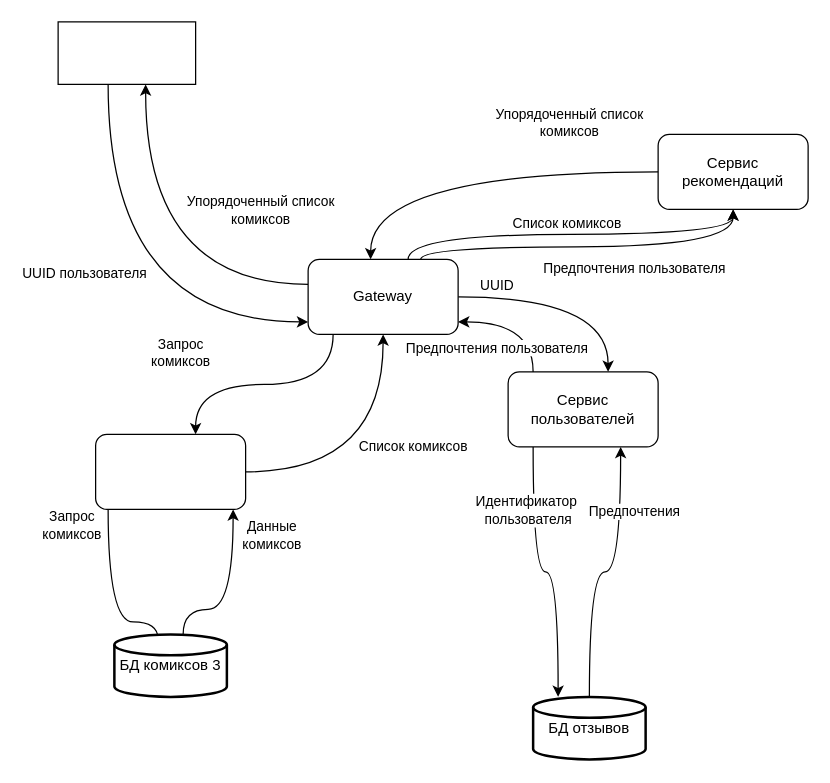
Some shapes in this 830 by 783 pixel diagram are drawn without their labels. The shapes that lost their labels are listed below. From the top down, each one's box as (x1, y1, x2, y2) in pixels, then its label:
(57, 21, 196, 84): Пользователь
(94, 433, 246, 509): Сервис каталога
